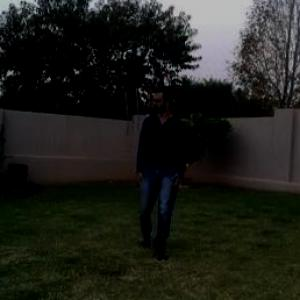follow: (135, 78, 186, 253)
